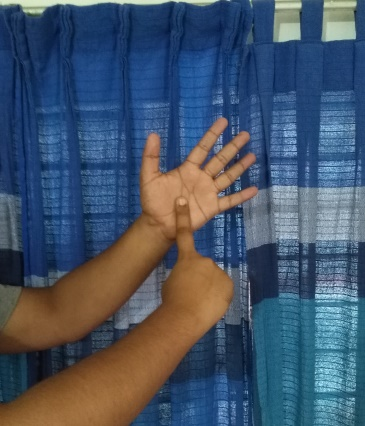oo: (143, 116, 260, 329)
